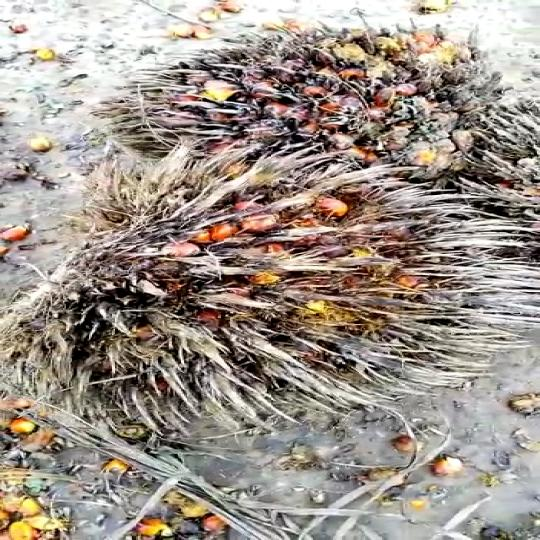terlalu masak: (0, 137, 466, 453), (108, 36, 503, 186)
